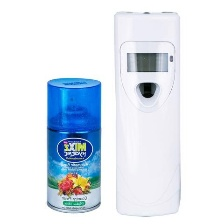aerosol_cans: (43, 71, 107, 218)
